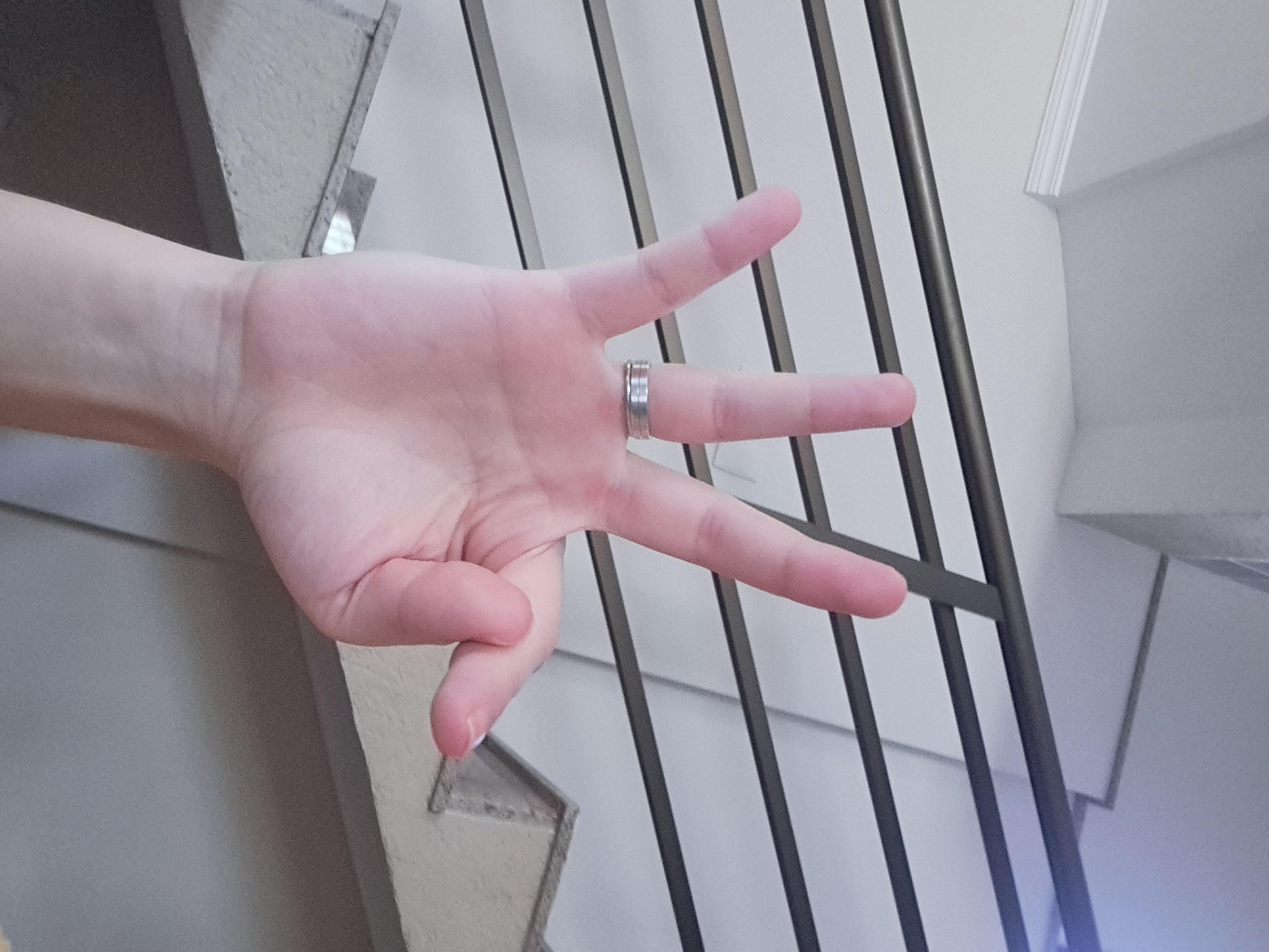T: (233, 254, 1026, 808)
